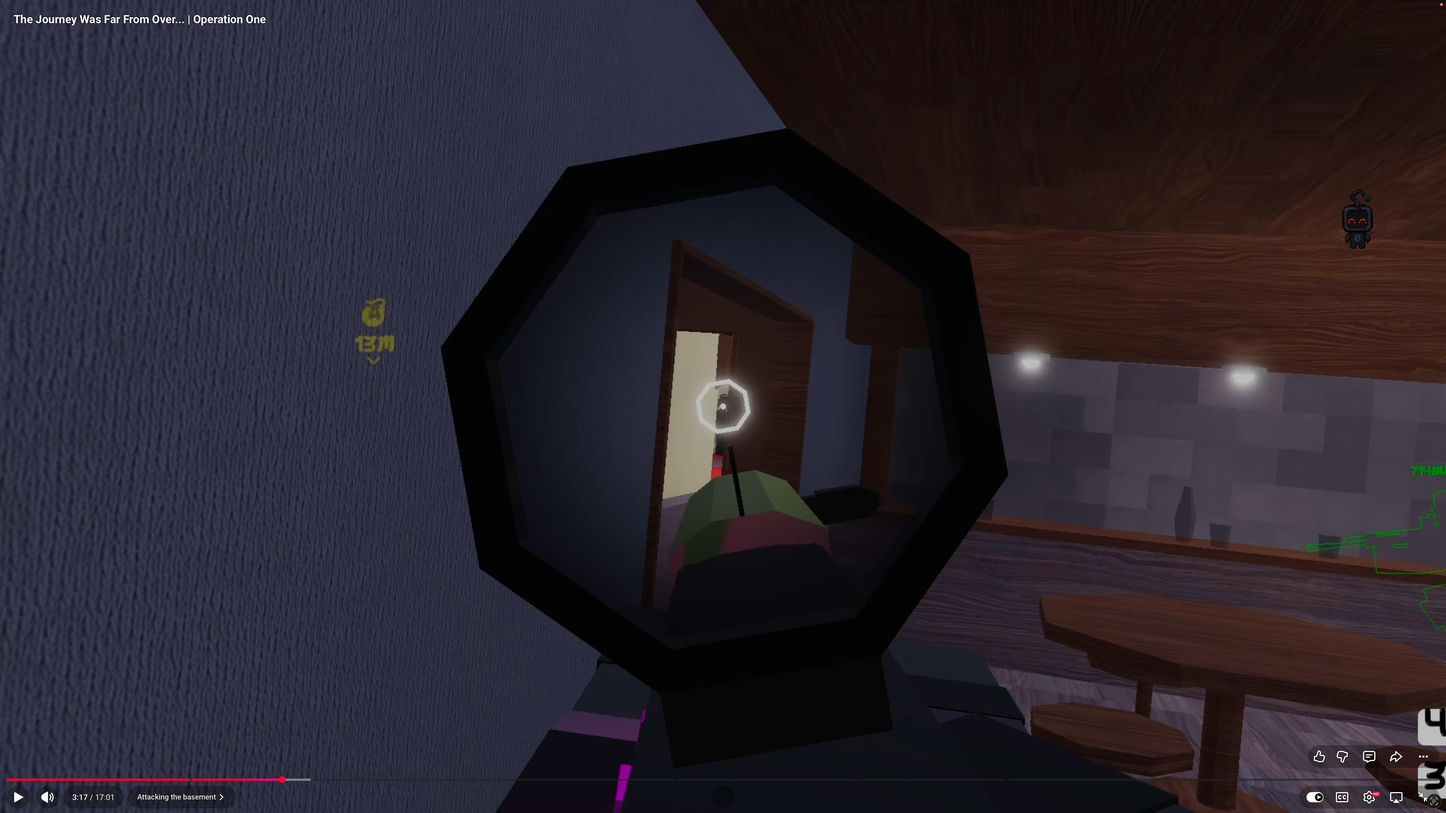enemy: (710, 392, 732, 460)
